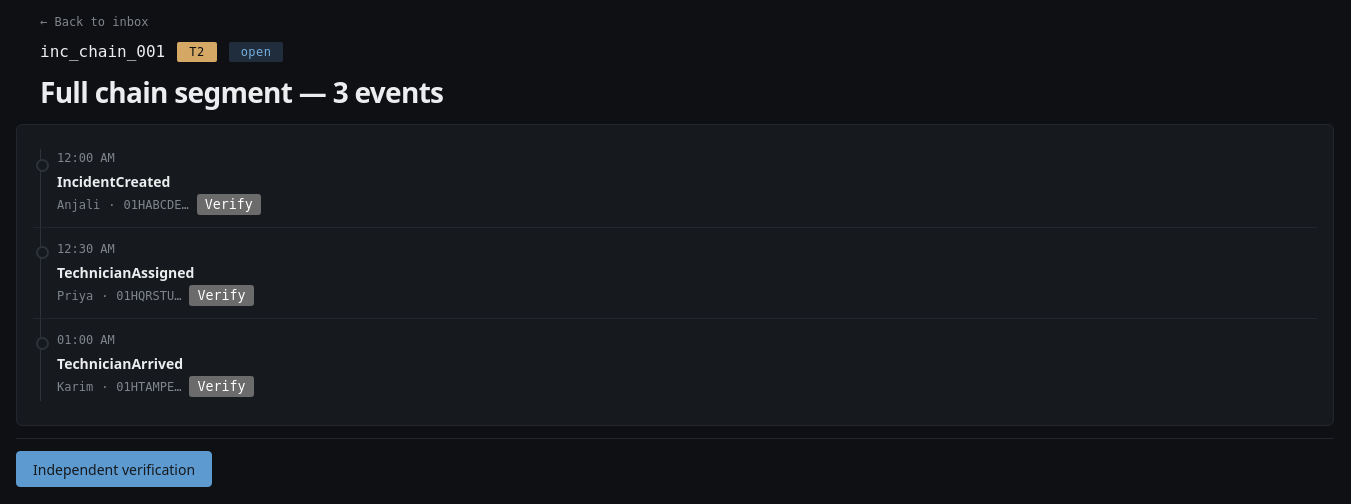
Test: FE-B6 IncidentChainSegmentPage (per-incident-chain-segment.md) › per-row verify button → ok badge when hash matches
Check: the list item with test id "chain-event-row-evt_001" is shown, box [57,151,261,215]
Click the button with test id "chain-row-verify-btn" next to "01HABCDE" at (229, 205), box [197,194,261,215]
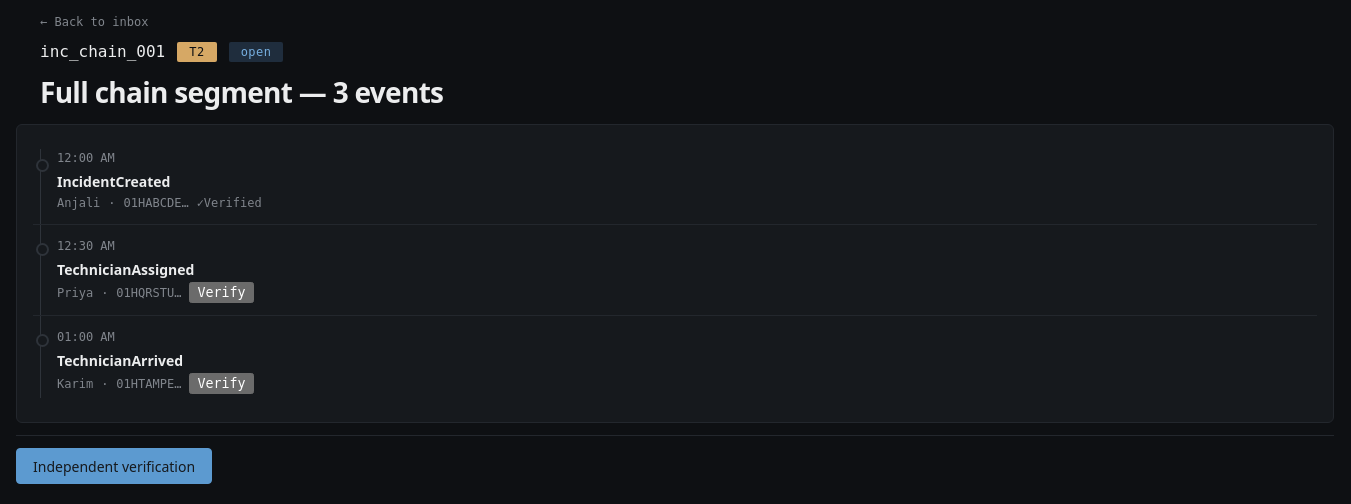
Check: the element with test id "chain-row-verify-ok" is shown, box [197,194,262,212]
